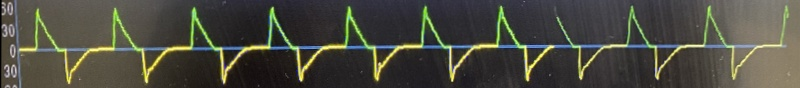normal_flow: (15, 0, 766, 88)
